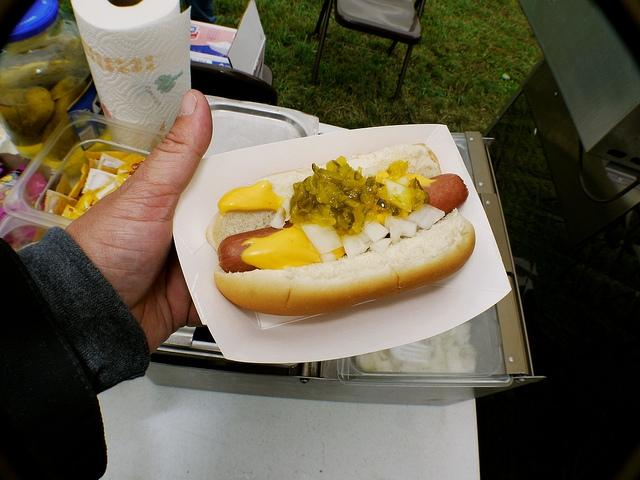onion: (301, 223, 344, 255), (405, 203, 445, 230), (385, 216, 418, 237), (340, 234, 368, 258), (364, 220, 389, 243), (269, 206, 286, 229), (370, 237, 392, 254), (383, 179, 406, 194), (460, 356, 476, 372), (390, 226, 404, 244), (282, 197, 291, 221), (318, 252, 336, 263), (358, 230, 372, 244), (446, 347, 459, 362), (456, 334, 468, 342)
